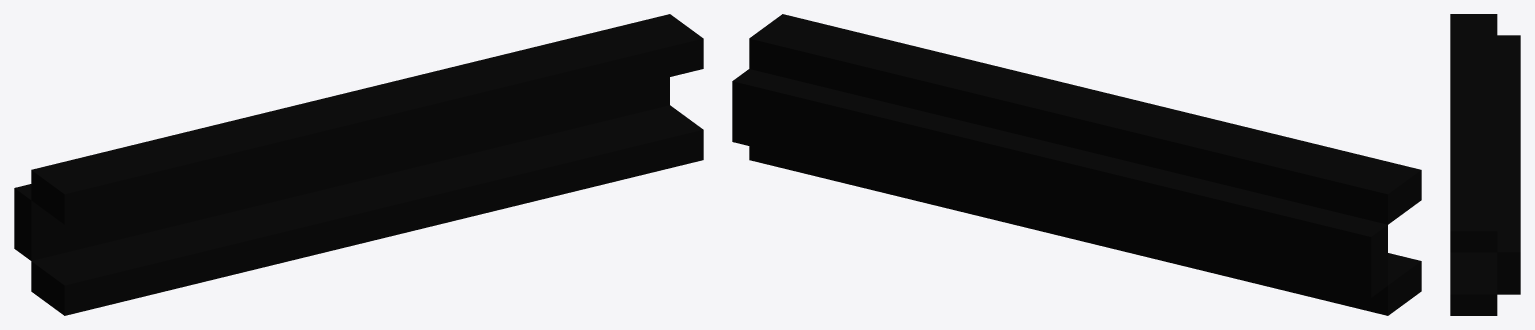
File: Slider_Empty_Mid.002.fbx
The picture shows the model from 3 angles, left to right: view 1: azimuth 30°, elevation 25°; view 2: azimuth 150°, elevation 25°; view 3: azimuth 270°, elevation 25°; orthographic projection. The views are drawn at different scales.
Visible parts, largest first — view 1: Slider_Empty_Mid.002; view 2: Slider_Empty_Mid.002; view 3: Slider_Empty_Mid.002.
Part boxes in pixels (left/top/right/bottom): Slider_Empty_Mid.002: left=14, top=14, right=703, bottom=315; Slider_Empty_Mid.002: left=732, top=14, right=1421, bottom=315; Slider_Empty_Mid.002: left=1450, top=14, right=1520, bottom=315.
Bounding box in the file's own units: 2.2 × 0.4 × 0.3.
